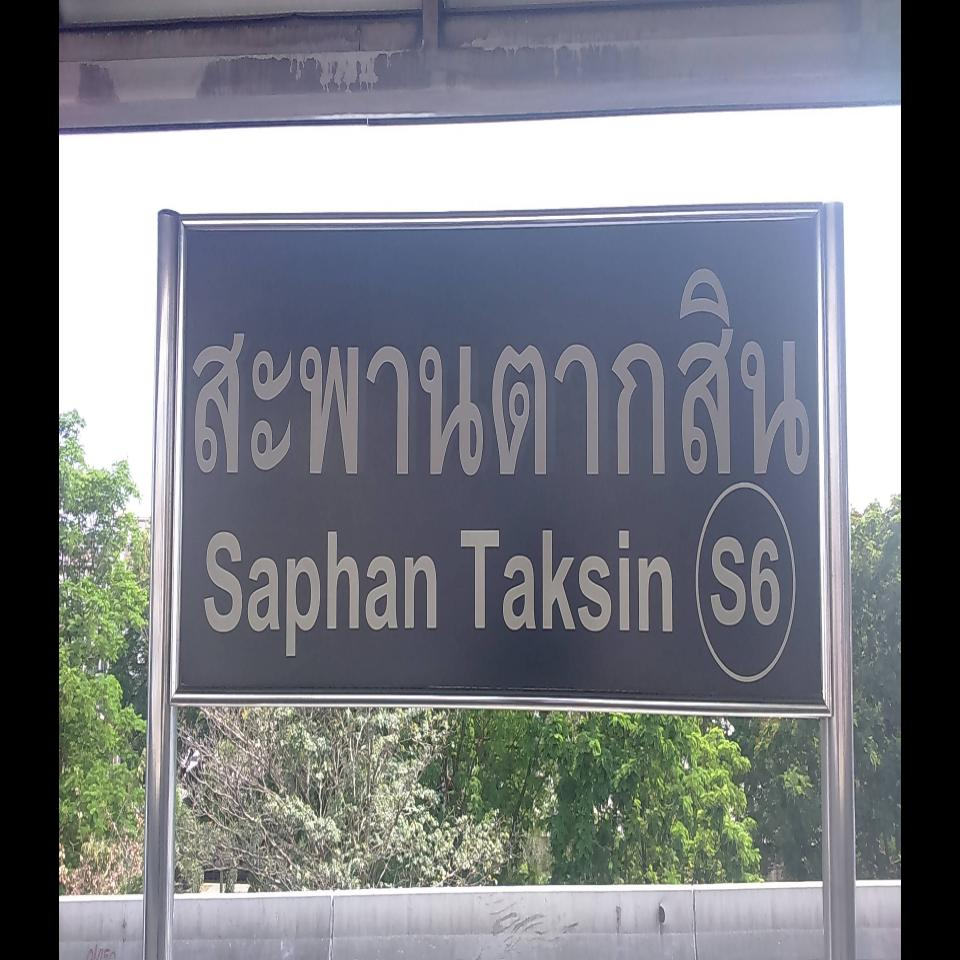signage: (170, 203, 831, 715)
